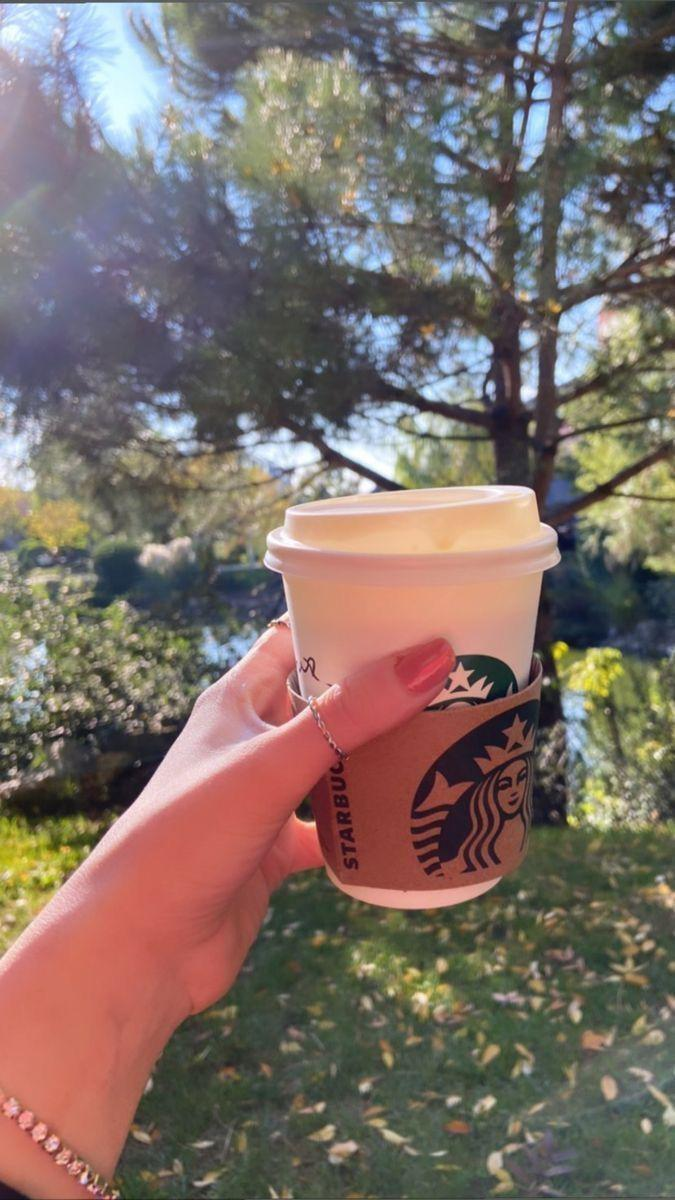cup-disposable: (262, 480, 566, 916)
